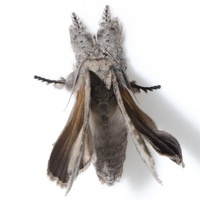insect: (35, 5, 183, 192)
